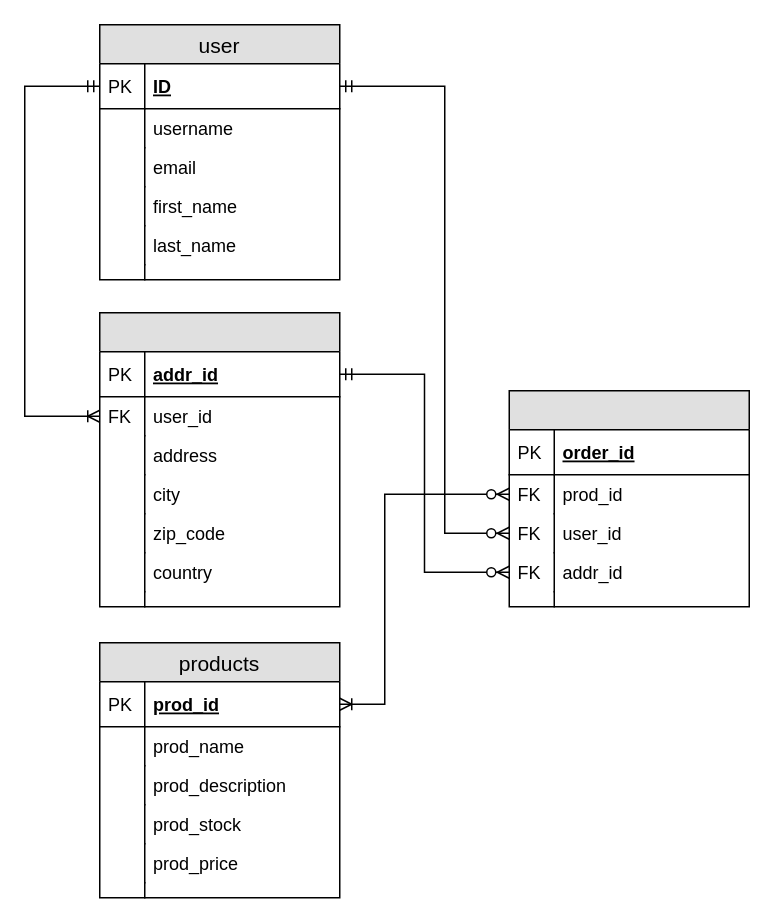
Some shapes in this 774 by 923 pixel diagram are drawn without their labels. The box of each missing label's shape, as (x1, y1, x2, y2) in pixels:
addresses: (98, 311, 340, 607)
orders: (508, 389, 749, 607)
